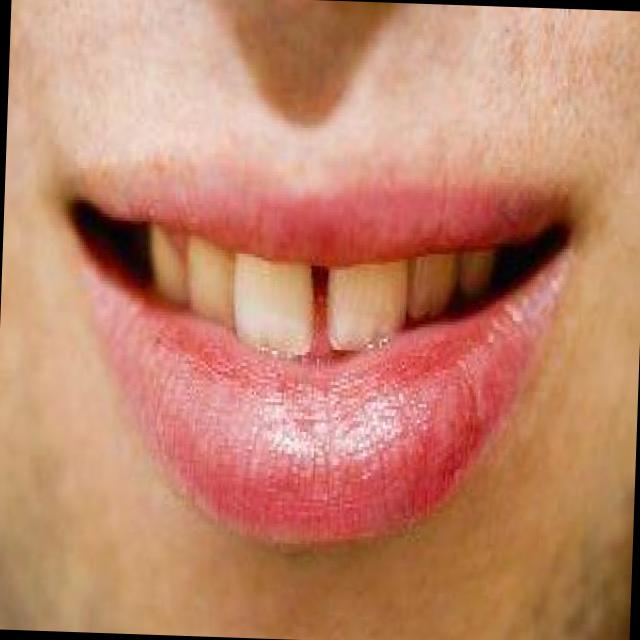Tooth: (231, 253, 318, 357), (326, 259, 407, 353), (185, 239, 235, 326), (406, 256, 461, 320), (150, 228, 187, 299)
